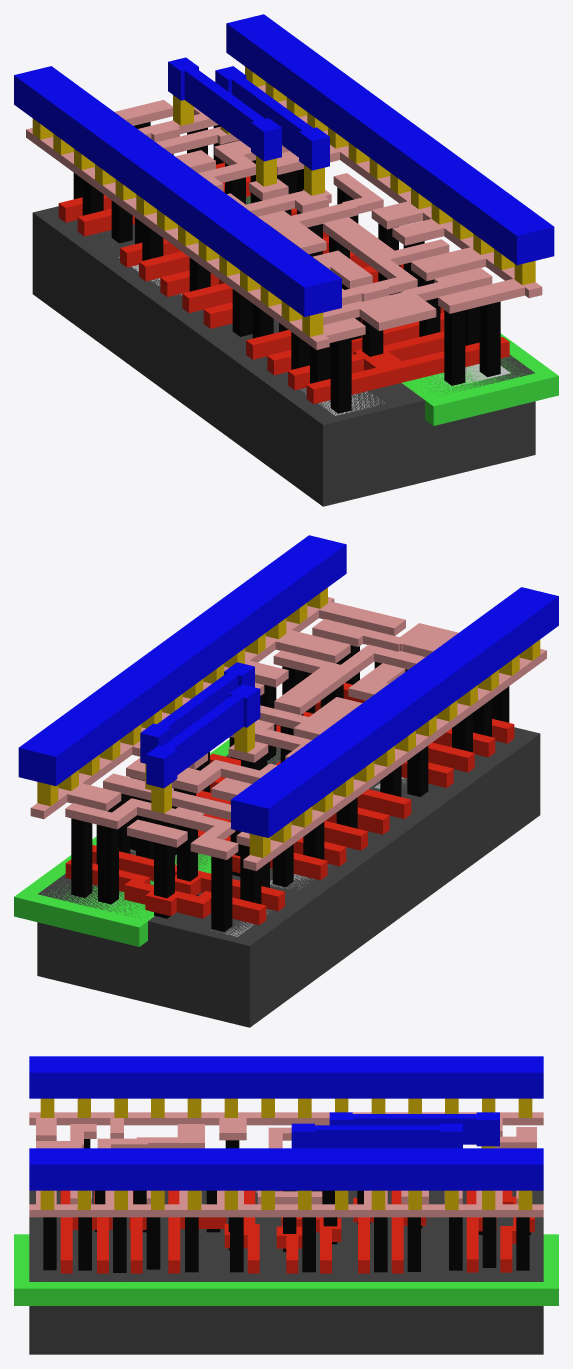
Rendered from sky130_fd_sc_hd__dlrtp_2.obj.
3 renders of one model, top to bottom at view 1: azimuth 30°, elevation 25°; view 2: azimuth 150°, elevation 25°; view 3: azimuth 270°, elevation 25°, orthographic. The views are drawn at different scales.
Parts seen in each view (by area): view 1: metal1, subs, li, licon, poly, mcon, nwell; view 2: metal1, subs, li, licon, poly, mcon, nwell; view 3: metal1, subs, li, nwell, licon, poly, mcon.
Boxes of the visible parts, bbox=[...] form: metal1: bbox=[14, 14, 554, 316]; subs: bbox=[32, 196, 535, 506]; li: bbox=[26, 85, 542, 349]; licon: bbox=[73, 122, 500, 413]; poly: bbox=[58, 162, 509, 404]; mcon: bbox=[32, 66, 535, 336]; nwell: bbox=[246, 196, 558, 425]; metal1: bbox=[18, 535, 558, 837]; subs: bbox=[37, 727, 540, 1027]; li: bbox=[30, 597, 546, 870]; licon: bbox=[71, 645, 509, 931]; poly: bbox=[65, 683, 514, 925]; mcon: bbox=[37, 587, 540, 857]; nwell: bbox=[14, 739, 277, 946]; metal1: bbox=[29, 1056, 543, 1190]; subs: bbox=[29, 1190, 543, 1354]; li: bbox=[29, 1112, 543, 1217]; nwell: bbox=[14, 1234, 558, 1305]; licon: bbox=[43, 1139, 530, 1272]; poly: bbox=[60, 1190, 534, 1273]; mcon: bbox=[40, 1098, 532, 1209].
Size of the model in its own units: 3.2 by 2.74 by 6.82.
